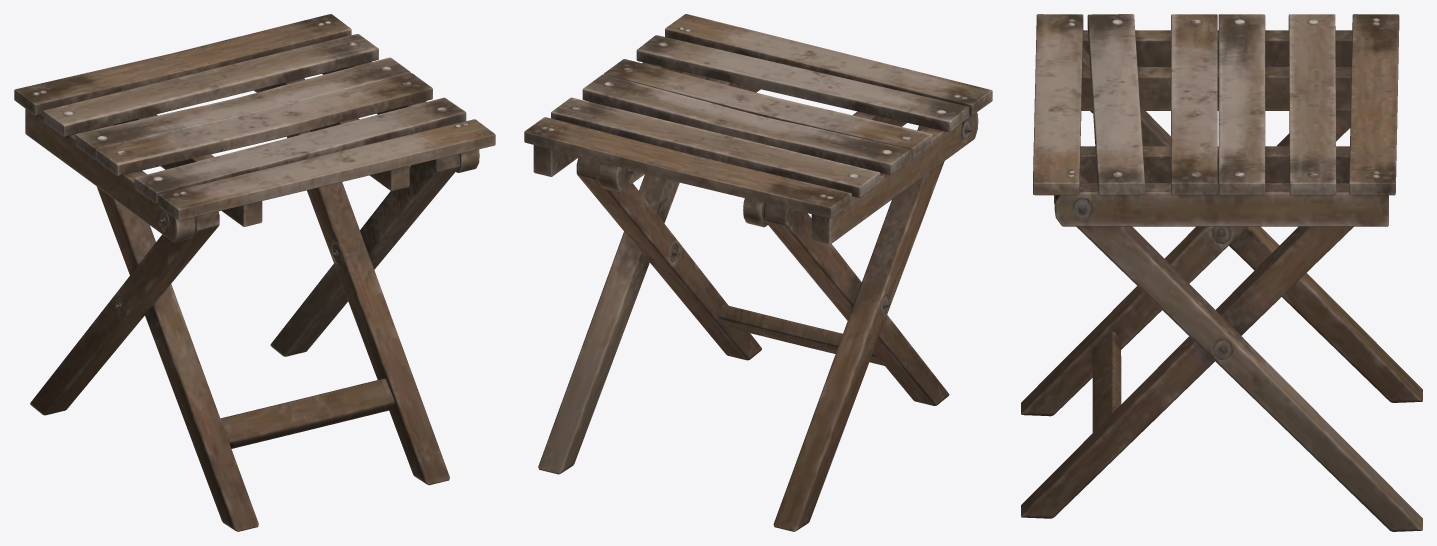
The model's file is ph-folding-wooden-stool.glb.
3 renders of one model, left to right at view 1: azimuth 30°, elevation 25°; view 2: azimuth 150°, elevation 25°; view 3: azimuth 270°, elevation 25°, orthographic. The views are drawn at different scales.
Parts seen in each view (by area): view 1: folding_wooden_stool; view 2: folding_wooden_stool; view 3: folding_wooden_stool.
Part boxes in pixels (bbox=[...]): folding_wooden_stool: bbox=[14, 14, 495, 531]; folding_wooden_stool: bbox=[524, 14, 992, 531]; folding_wooden_stool: bbox=[1021, 14, 1422, 531].
Size of the model in its own units: 1 by 1 by 1.
1 material, 1 textured.
